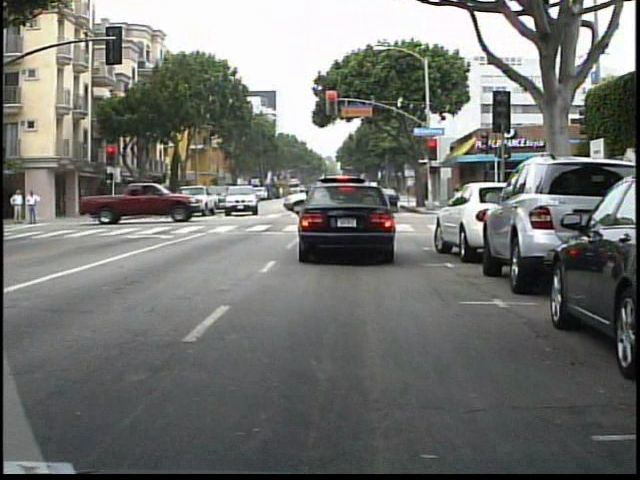person: (9, 187, 25, 227), (25, 188, 39, 226)
